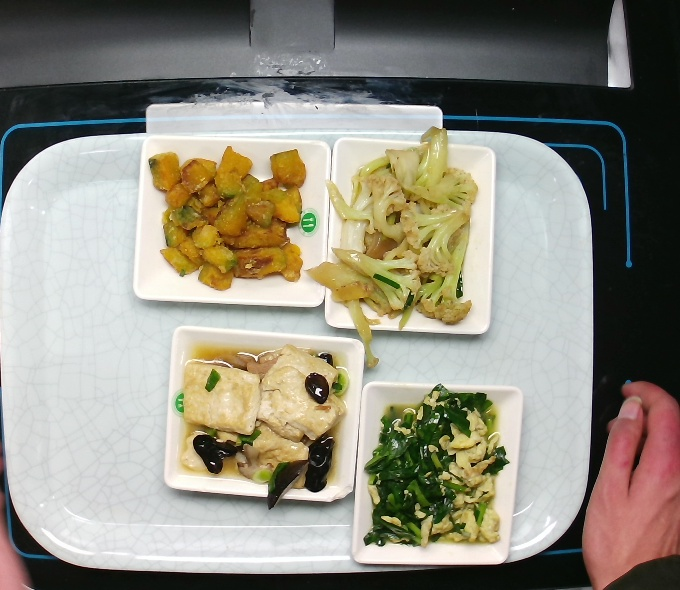wcq-DanHuangNanGua: (143, 138, 315, 295)
wcq-JiaChangDouFu: (175, 343, 343, 510)
wcq-JiuCaiJiDan: (361, 380, 511, 555)
wcq-QiuCai: (306, 123, 481, 354)
